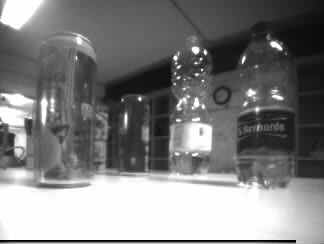Bottle: (238, 21, 293, 189), (169, 34, 212, 174)
Tin can: (36, 29, 94, 185), (119, 96, 149, 174)
